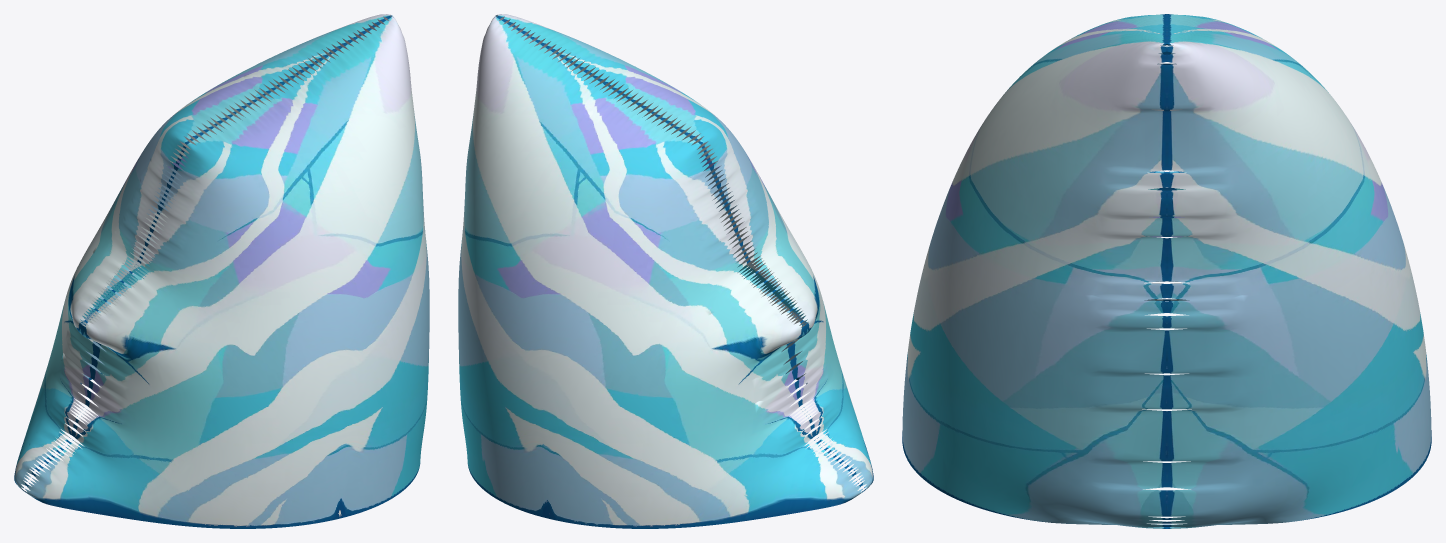
Rendered from sloping_ice_bluff.glb.
3 renders of one model, left to right at view 1: azimuth 30°, elevation 25°; view 2: azimuth 150°, elevation 25°; view 3: azimuth 270°, elevation 25°, orthographic. The views are drawn at different scales.
Visible parts, largest first — view 1: sloping_ice_bluff; view 2: sloping_ice_bluff; view 3: sloping_ice_bluff.
Boxes of the visible parts, x1,y1,x2,y2 form: sloping_ice_bluff: (14, 14, 429, 528); sloping_ice_bluff: (458, 14, 873, 528); sloping_ice_bluff: (902, 14, 1431, 528).
Size of the model in its own units: 0.9882 by 0.9756 by 0.9457.
1 material, 1 textured.
